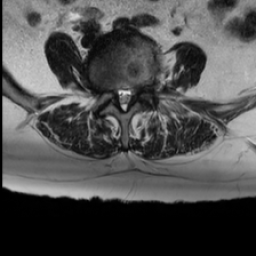CCS_normal: (120, 81, 127, 117)
LFS_severe_stenosis: (135, 77, 143, 101)
LLS_stenosis: (127, 83, 135, 107)
RFS_severe_stenosis: (105, 79, 113, 101)
RLS_severe_stenosis: (113, 81, 120, 105)
